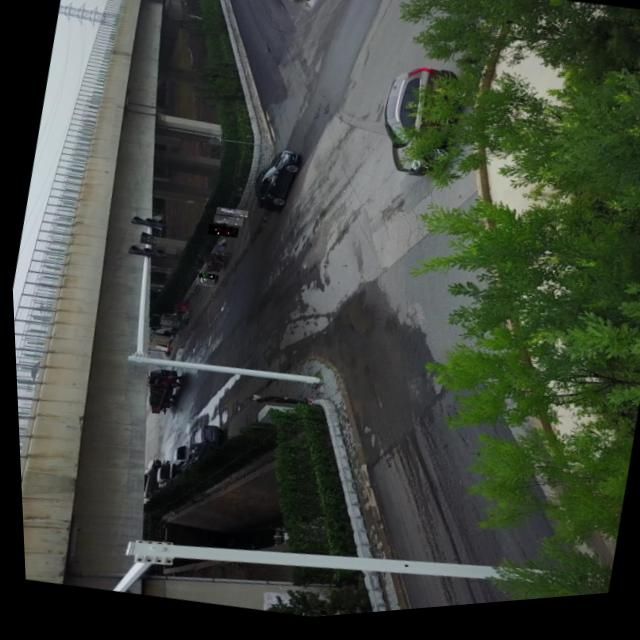Person: (205, 224, 236, 242), (213, 207, 247, 223), (211, 215, 241, 231), (195, 273, 216, 288), (193, 278, 212, 290)
